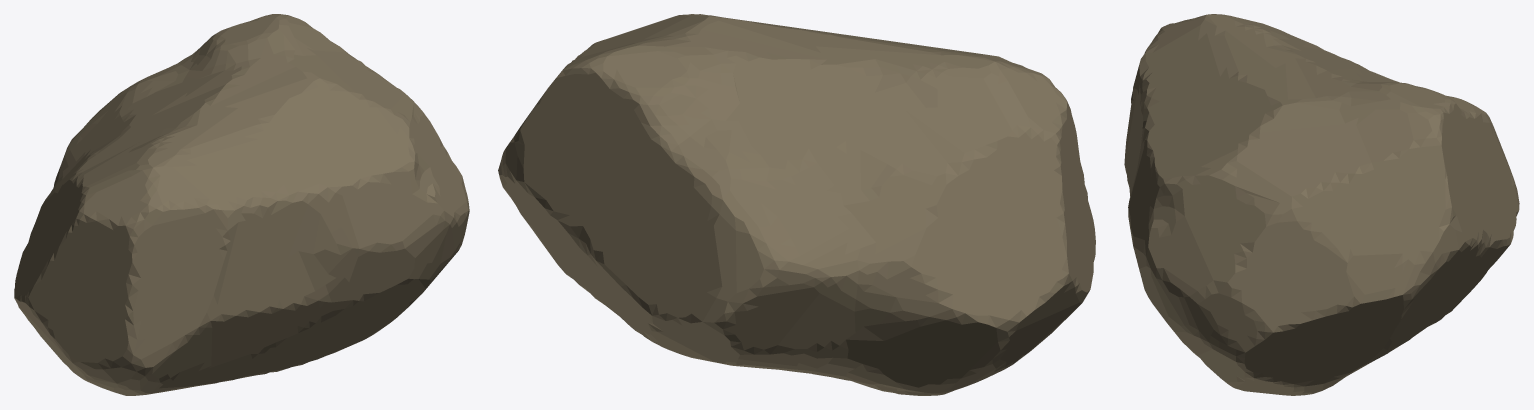
The model's file is Boulder.fbx.
3 views of the same model, side by side, from view 1: azimuth 30°, elevation 25°; view 2: azimuth 150°, elevation 25°; view 3: azimuth 270°, elevation 25° (orthographic). The views are drawn at different scales.
Parts seen in each view (by area): view 1: Mball.003; view 2: Mball.003; view 3: Mball.003.
Part boxes in pixels (x1=…): Mball.003: x1=14, y1=14, x2=469, y2=395; Mball.003: x1=498, y1=14, x2=1095, y2=395; Mball.003: x1=1124, y1=14, x2=1519, y2=395.
Size of the model in its own units: 545 by 332 by 406.
